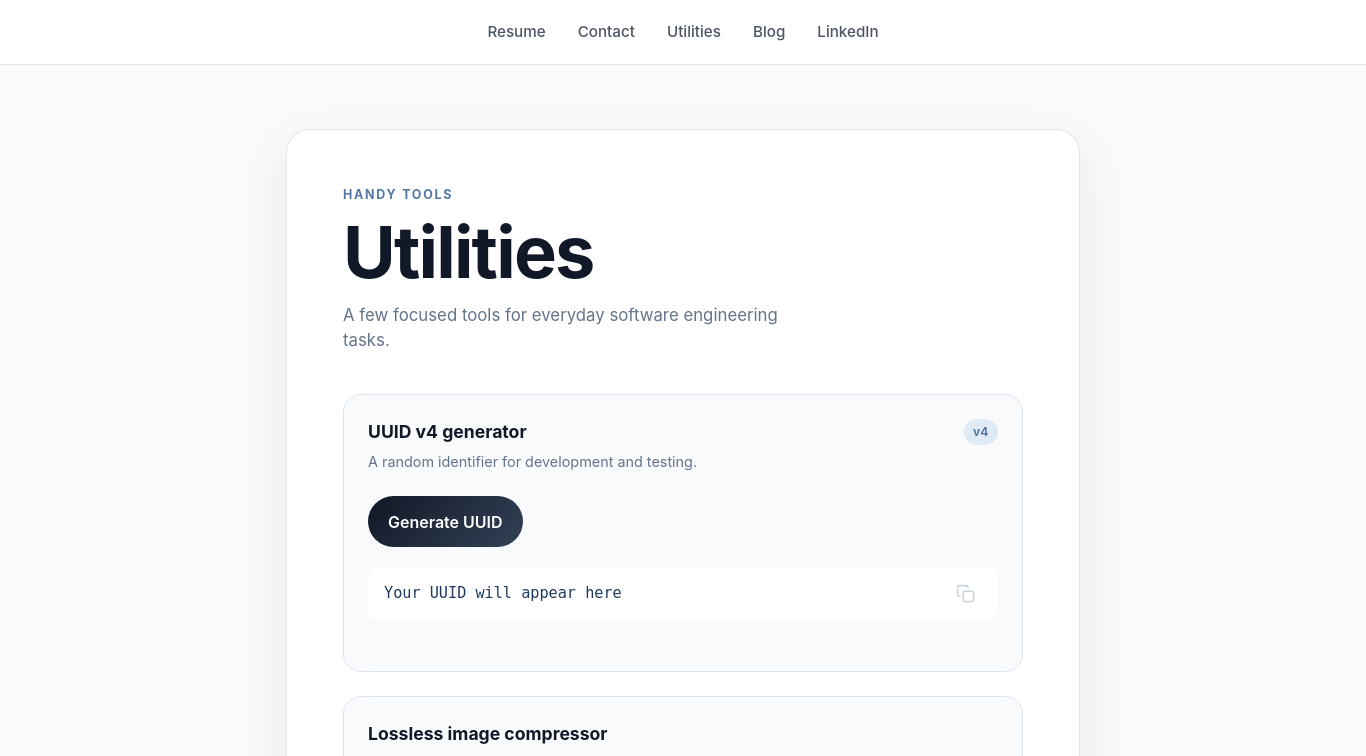
Test: generates a UUID v4 on the utilities route
Check: the heading "Utilities" is shown, box [343,208,594,295]
Check: the text named "generated uuid" reads "Your UUID will appear here", box [384,584,622,602]
Click the button "Generate UUID". click: (445, 522)
box: [368,496,523,547]
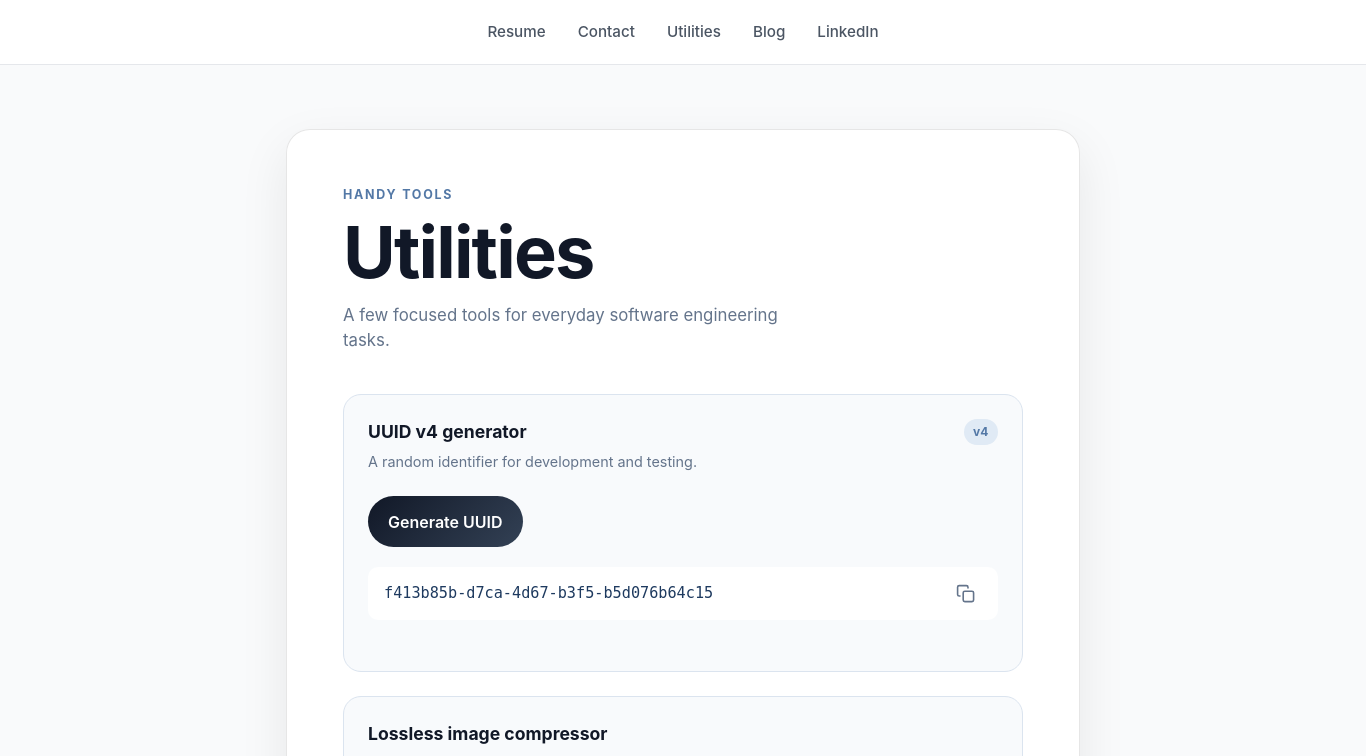
Check: the text named "generated uuid" reads "f413b85b-d7ca-4d67-b3f5-b5d076b64c15", box [384,584,713,602]
